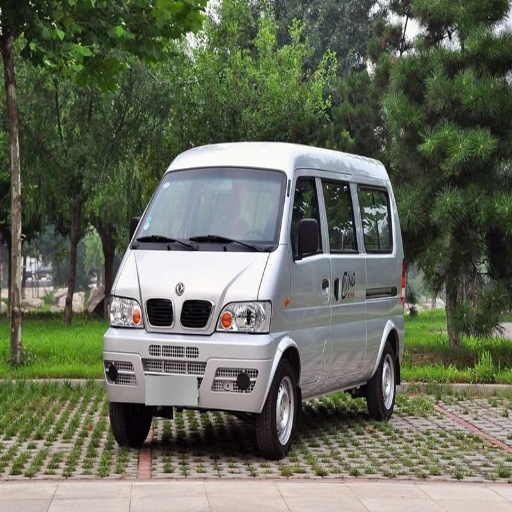front_bumper: (107, 292, 280, 409)
front_glass: (132, 167, 286, 251)
front_left_door: (289, 172, 347, 383)
